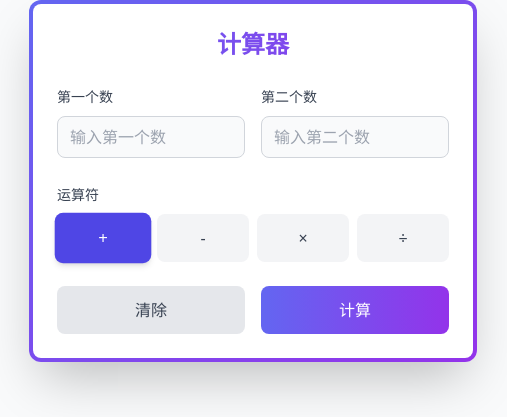
it: 计算器组件 › 输入数字并清除
This screenshot has width=507, height=417.
Type "10" into the number field labelled "第一个数" at [151, 137], box x1=57 y1=116 x2=245 y2=158
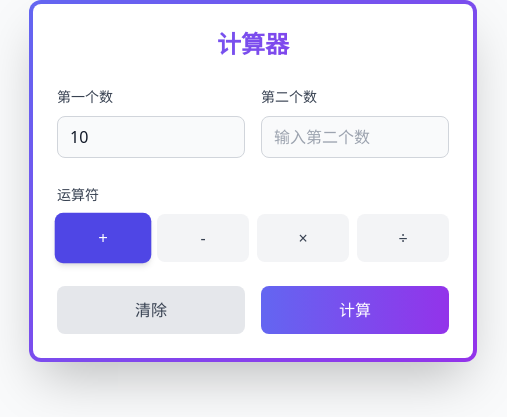
Type "5" into the number field labelled "第二个数" at [355, 137], box x1=261 y1=116 x2=449 y2=158
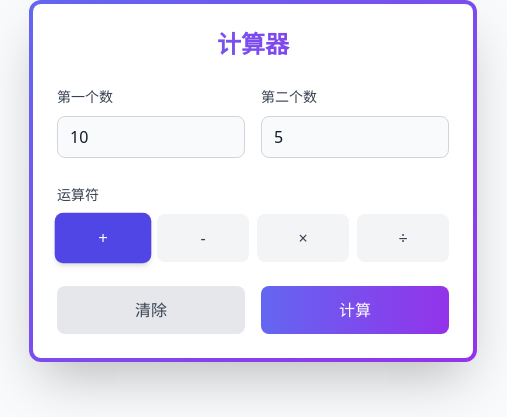
Click the button "清除" at [151, 310], box x1=57 y1=286 x2=245 y2=334
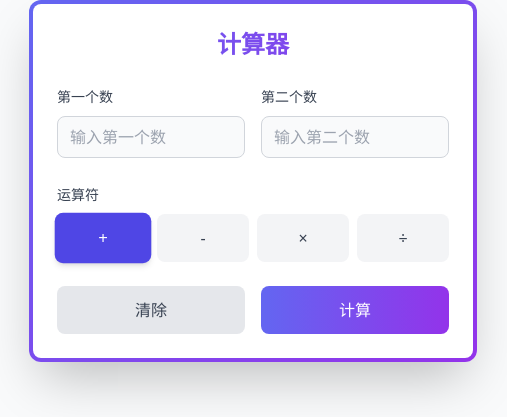
expect the number field labelled "第一个数" is empty: met, box x1=57 y1=116 x2=245 y2=158
expect the number field labelled "第二个数" is empty: met, box x1=261 y1=116 x2=449 y2=158
